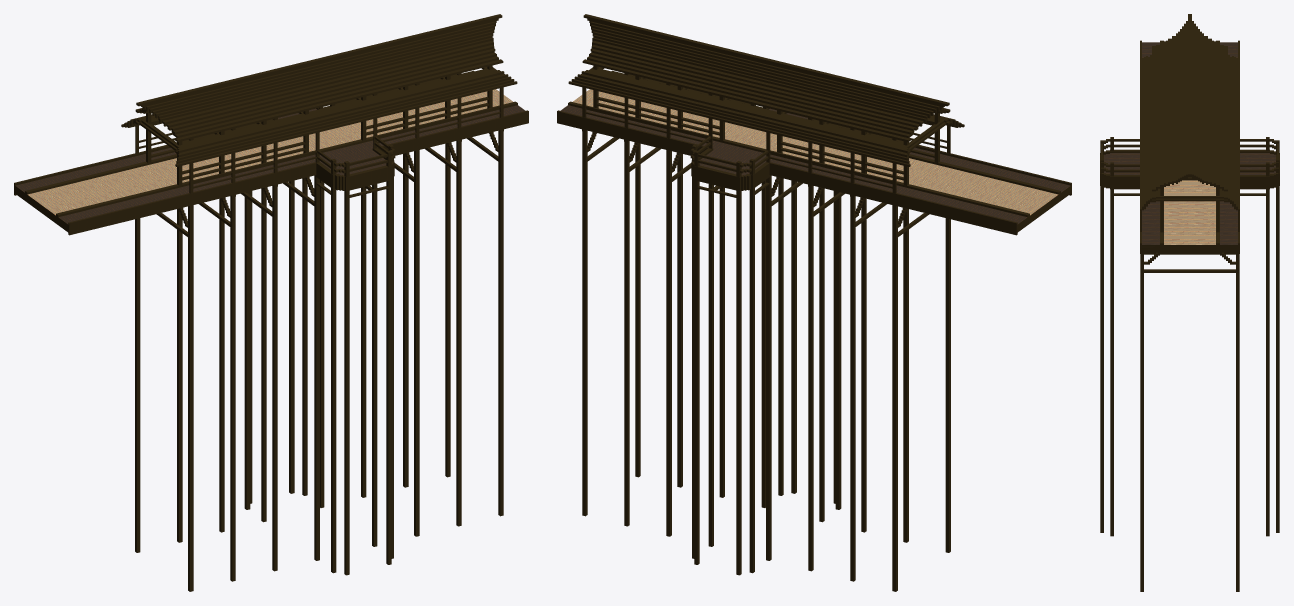
The model's file is RiverBridge.fbx.
3 views of the same model, side by side, from view 1: azimuth 30°, elevation 25°; view 2: azimuth 150°, elevation 25°; view 3: azimuth 270°, elevation 25° (orthographic). The views are drawn at different scales.
Parts seen in each view (by area): view 1: RiverBridge; view 2: RiverBridge; view 3: RiverBridge.
Part boxes in pixels (x1=…): RiverBridge: x1=14, y1=14, x2=528, y2=591; RiverBridge: x1=557, y1=14, x2=1071, y2=591; RiverBridge: x1=1100, y1=14, x2=1279, y2=591.
Bounding box in the file's own units: 720 × 710 × 270.
Materials: 4 (4 with a texture image).
